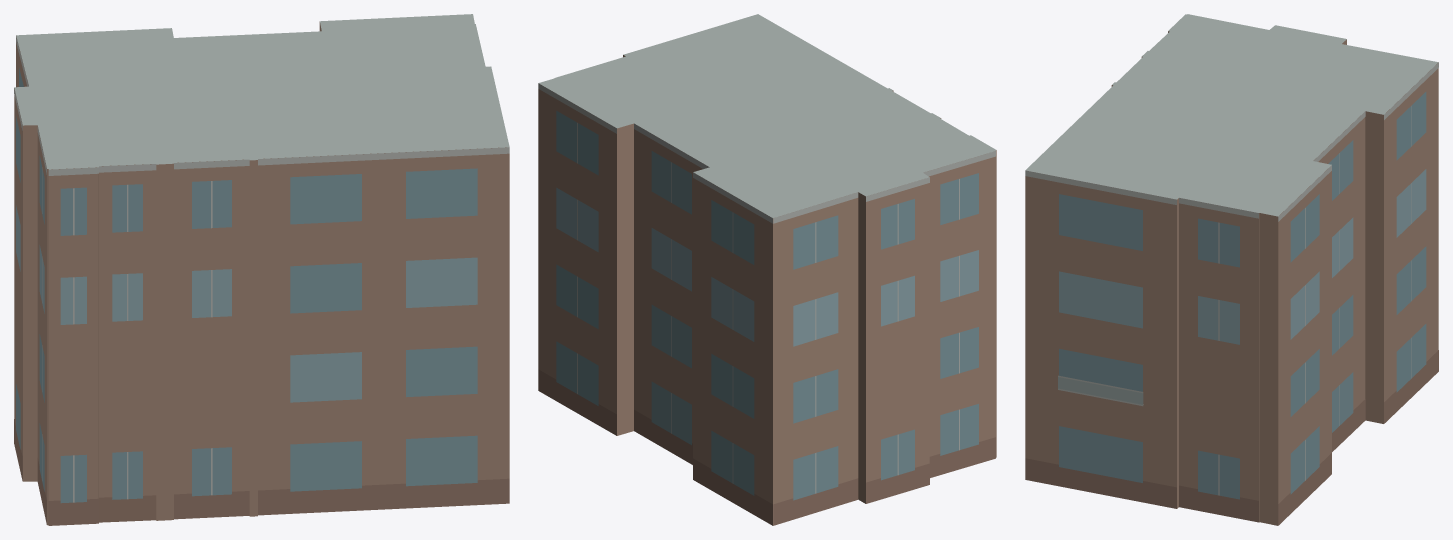
Rendered from survey-upis-32658397.glb.
The picture shows the model from 3 angles, left to right: view 1: azimuth 30°, elevation 25°; view 2: azimuth 150°, elevation 25°; view 3: azimuth 270°, elevation 25°; orthographic projection. The views are drawn at different scales.
Parts seen in each view (by area): view 1: survey-upis-32658397.tmp; view 2: survey-upis-32658397.tmp; view 3: survey-upis-32658397.tmp.
Part boxes in pixels (left/top/right/bottom): survey-upis-32658397.tmp: left=14, top=14, right=509, bottom=525; survey-upis-32658397.tmp: left=538, top=14, right=996, bottom=525; survey-upis-32658397.tmp: left=1025, top=14, right=1438, bottom=525.
Size of the model in its own units: 18.89 by 13.45 by 16.3.
